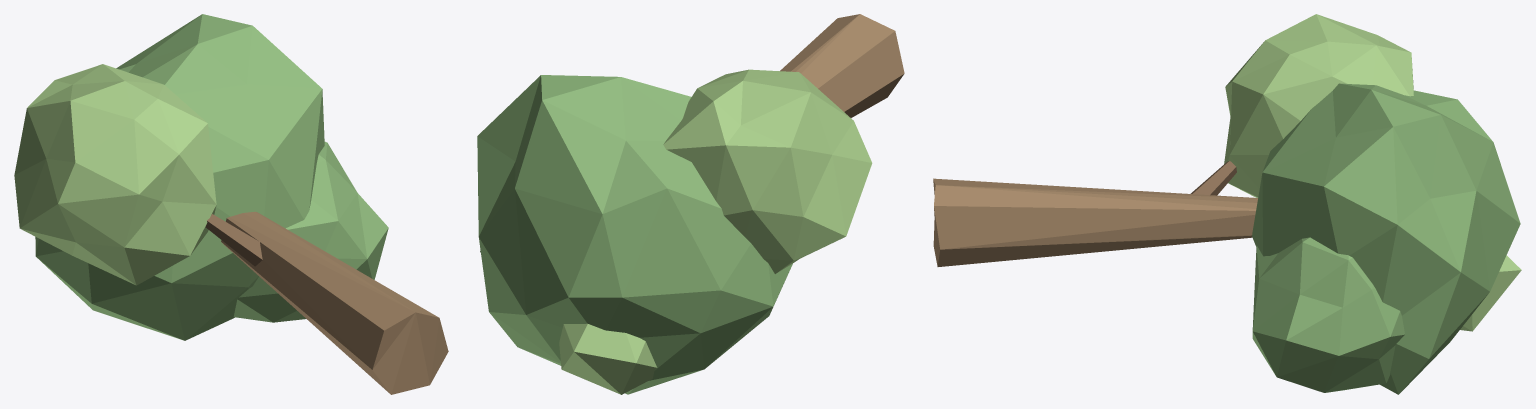
Rendered from TreeOak.fbx.
The picture shows the model from 3 angles, left to right: view 1: azimuth 30°, elevation 25°; view 2: azimuth 150°, elevation 25°; view 3: azimuth 270°, elevation 25°; orthographic projection. The views are drawn at different scales.
Parts seen in each view (by area): view 1: fam_leaf, fam_leaf_light, fam_wood, fam_wood_dark; view 2: fam_leaf, fam_leaf_light, fam_wood; view 3: fam_leaf, fam_wood, fam_leaf_light, fam_wood_dark.
Boxes of the visible parts, box(x1,y1,x2,y2) form: fam_leaf: box(35, 14, 388, 340); fam_leaf_light: box(14, 64, 216, 285); fam_wood: box(221, 211, 448, 394); fam_wood_dark: box(205, 214, 262, 266); fam_leaf: box(477, 75, 792, 394); fam_leaf_light: box(559, 69, 872, 394); fam_wood: box(780, 14, 904, 117); fam_leaf: box(1252, 83, 1520, 394); fam_wood: box(933, 178, 1257, 266); fam_leaf_light: box(1224, 14, 1521, 331); fam_wood_dark: box(1190, 160, 1236, 195).
Size of the model in its own units: 9.21 by 7.58 by 14.04.
